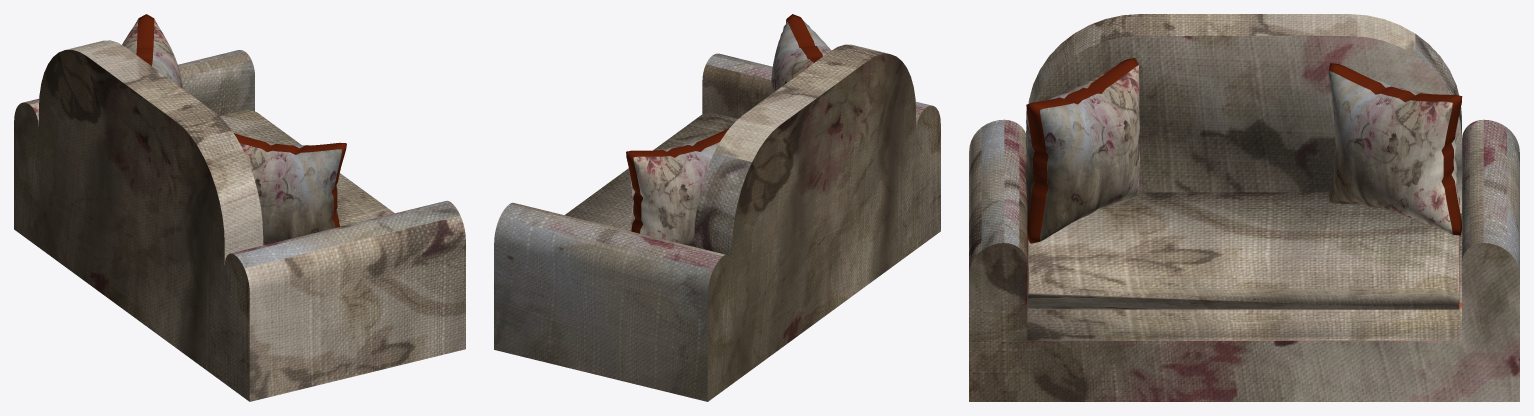
Rendered from Old_Couch(V2.2).fbx.
3 renders of one model, left to right at view 1: azimuth 30°, elevation 25°; view 2: azimuth 150°, elevation 25°; view 3: azimuth 270°, elevation 25°, orthographic. The views are drawn at different scales.
Parts seen in each view (by area): view 1: Body; view 2: Body; view 3: Body.
Boxes of the visible parts, bbox=[...] form: Body: bbox=[14, 14, 465, 401]; Body: bbox=[494, 14, 940, 401]; Body: bbox=[969, 14, 1519, 401].
Bounding box in the file's own units: 412 × 412 × 777.
Materials: 4 (2 with a texture image).
